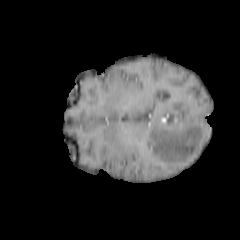glioma: (147, 121, 205, 163)
